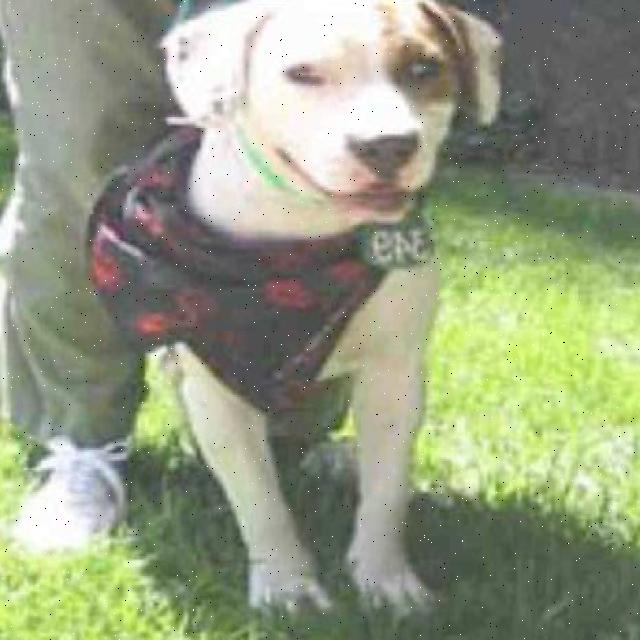Dog: (163, 0, 510, 225)
